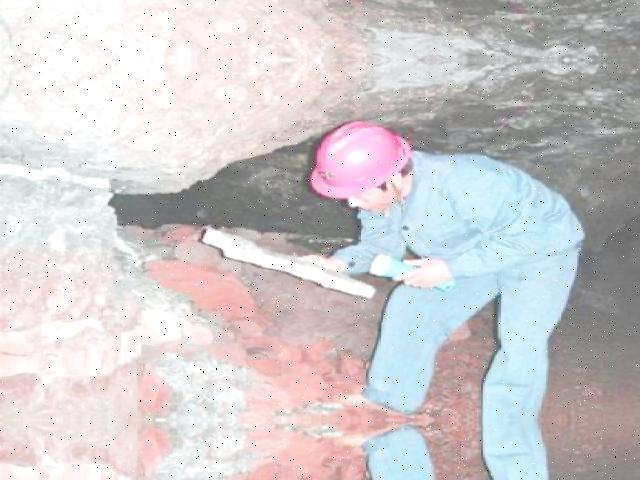Helmet: (302, 117, 413, 206)
